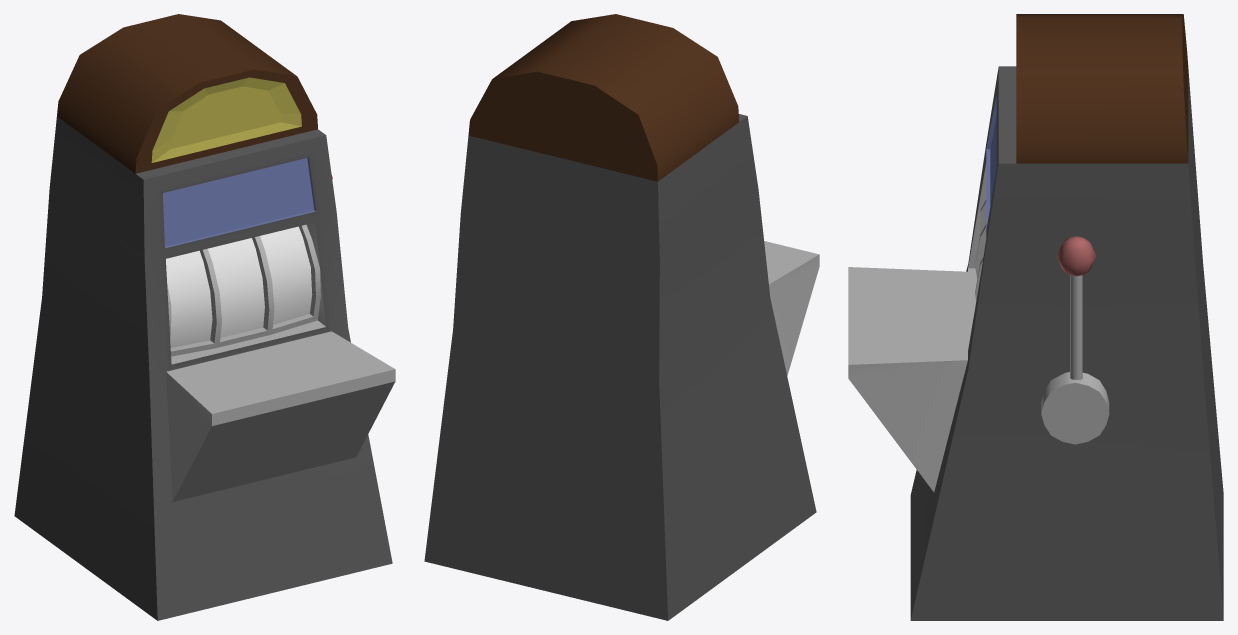
File: slot_machine.fbx
The picture shows the model from 3 angles, left to right: view 1: azimuth 30°, elevation 25°; view 2: azimuth 150°, elevation 25°; view 3: azimuth 270°, elevation 25°; orthographic projection. The views are drawn at different scales.
Visible parts, largest first — view 1: Slot_Machine_Slot_machine2; view 2: Slot_Machine_Slot_machine2; view 3: Slot_Machine_Slot_machine2.
Part boxes in pixels (left/top/right/bottom): Slot_Machine_Slot_machine2: left=14, top=14, right=395, bottom=620; Slot_Machine_Slot_machine2: left=424, top=14, right=819, bottom=620; Slot_Machine_Slot_machine2: left=848, top=14, right=1223, bottom=620.
Bounding box in the file's own units: 1.48 × 2.73 × 1.77.
